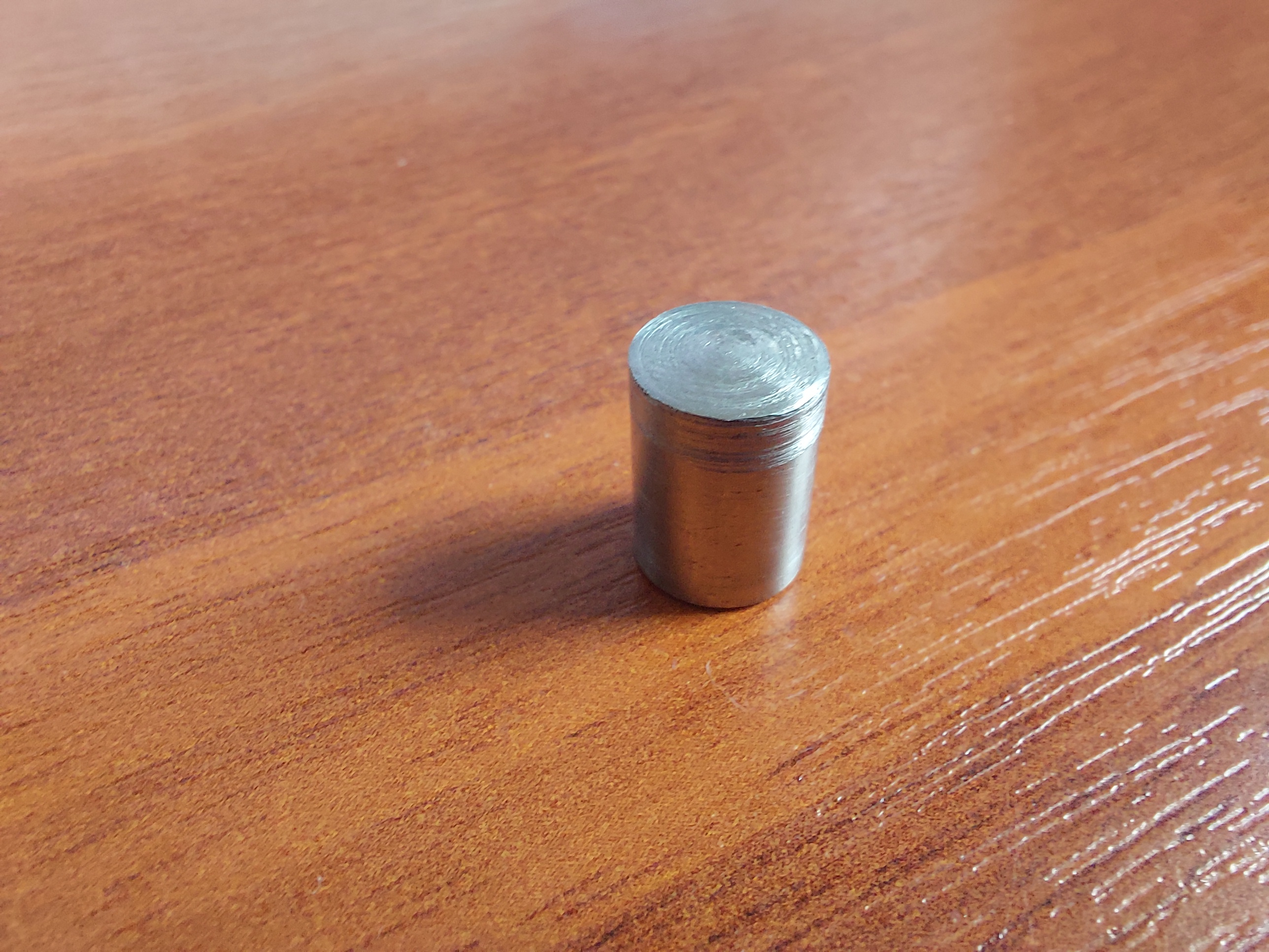tablet: (633, 303, 834, 615)
